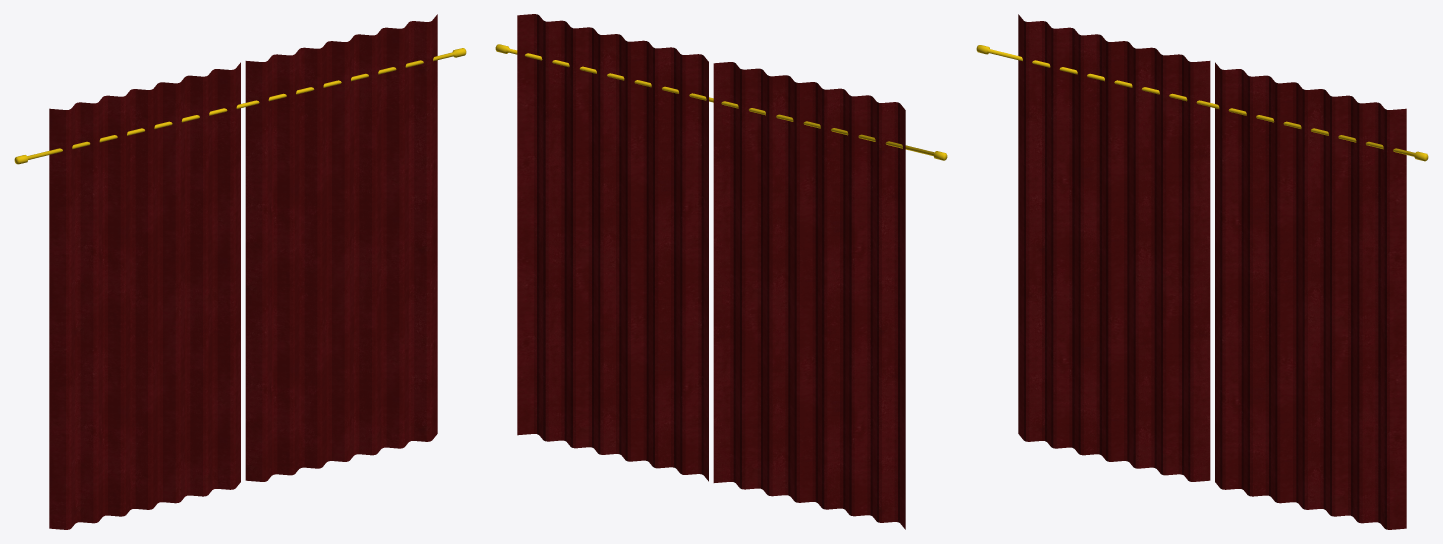
File: curtain-8.glb
3 views of the same model, side by side, from view 1: azimuth 30°, elevation 25°; view 2: azimuth 150°, elevation 25°; view 3: azimuth 330°, elevation 25° (orthographic).
Visible parts, largest first — view 1: vip-curtains_0; view 2: vip-curtains_0; view 3: vip-curtains_0.
Boxes of the visible parts, x1,y1,x2,y2 form: vip-curtains_0: (14, 14, 466, 529); vip-curtains_0: (495, 14, 947, 529); vip-curtains_0: (976, 14, 1428, 529).
Size of the model in its own units: 0.9854 by 0.8804 by 0.0231.
Materials: 2 (1 with a texture image).
